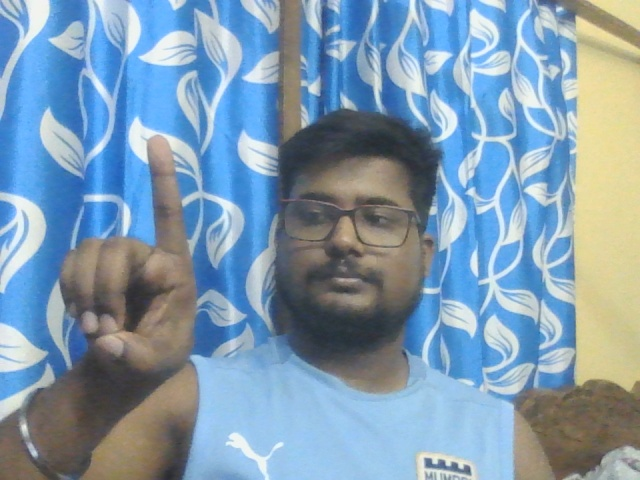D: (59, 134, 197, 381)
